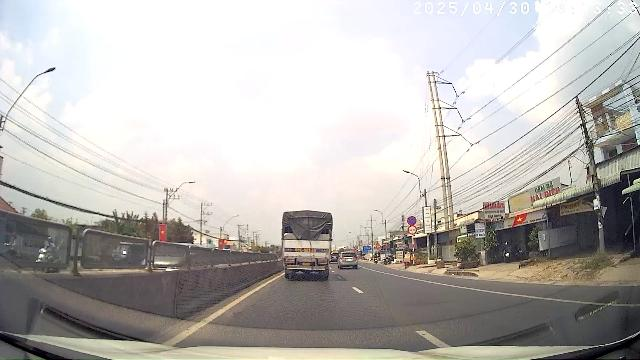125-cam-vuot: (408, 226, 417, 234)
130-cam-dung-va-do-xe: (408, 217, 417, 226)
